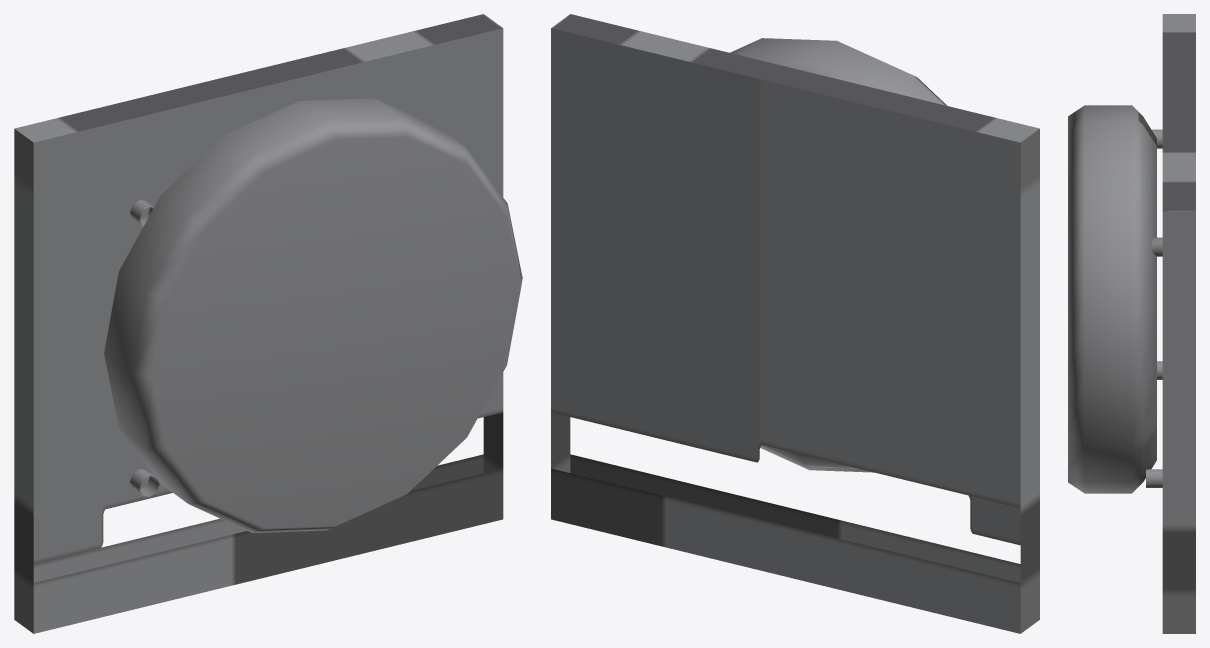
3 views of the same model, side by side, from view 1: azimuth 30°, elevation 25°; view 2: azimuth 150°, elevation 25°; view 3: azimuth 270°, elevation 25° (orthographic). The views are drawn at different scales.
Bounding box in the file's own units: 0.84 × 0.84 × 0.23.
